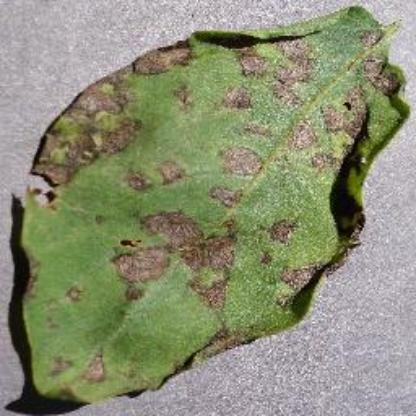Early-Blight: (19, 7, 407, 403)
